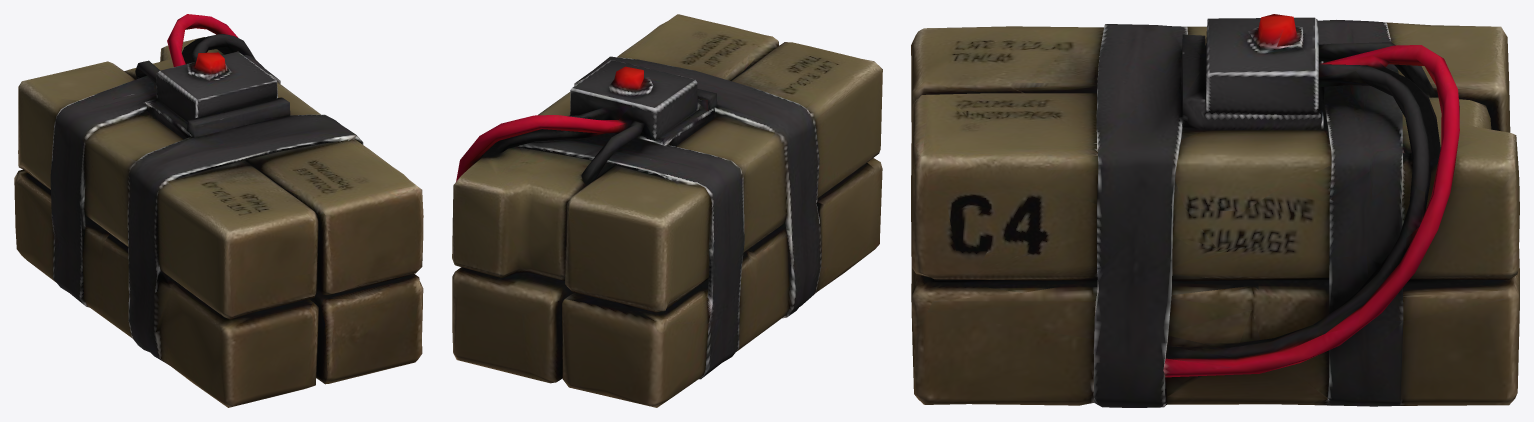
The picture shows the model from 3 angles, left to right: view 1: azimuth 30°, elevation 25°; view 2: azimuth 150°, elevation 25°; view 3: azimuth 270°, elevation 25°; orthographic projection. The views are drawn at different scales.
Visible parts, largest first — view 1: tripo_node_727832fd; view 2: tripo_node_727832fd; view 3: tripo_node_727832fd.
Part boxes in pixels (bbox=[...]): tripo_node_727832fd: bbox=[14, 14, 423, 407]; tripo_node_727832fd: bbox=[452, 14, 882, 407]; tripo_node_727832fd: bbox=[911, 14, 1519, 407].
Bounding box in the file's own units: 0.6158 × 0.6007 × 0.9801.
